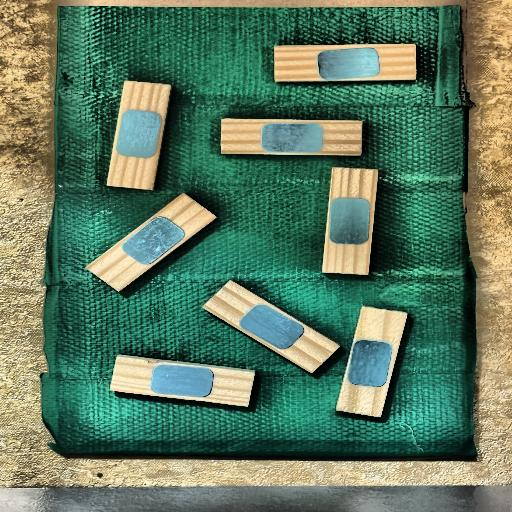objects: (87, 186, 217, 299), (202, 275, 340, 379), (335, 302, 408, 421), (109, 356, 255, 408), (106, 77, 170, 193), (321, 165, 378, 277), (274, 43, 417, 81), (221, 119, 362, 156)
